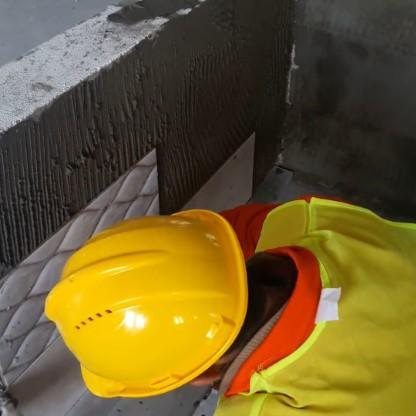helmet: (32, 179, 279, 411)
